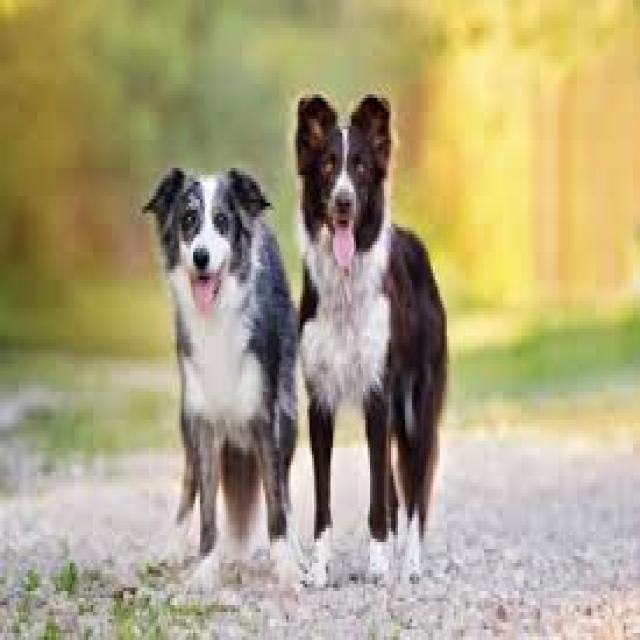BORDER_COLLIE: (286, 86, 454, 591), (138, 124, 307, 586)
